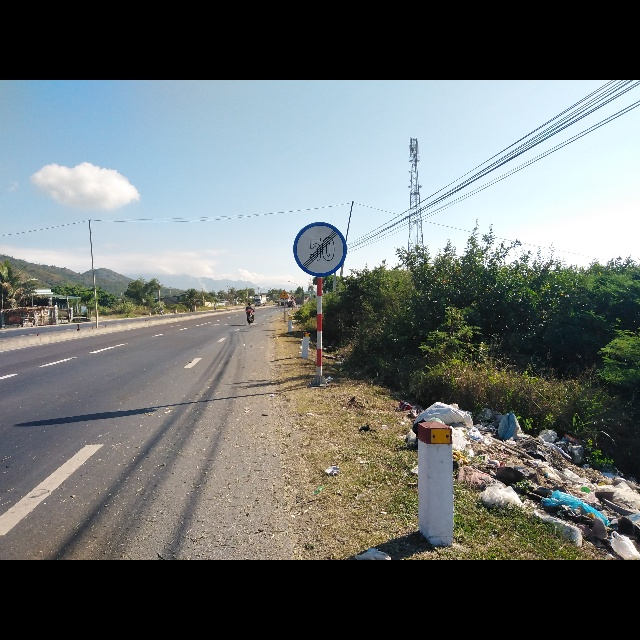Hết hạn chế tốc độ tối đa 50km/h: (291, 218, 349, 279)
